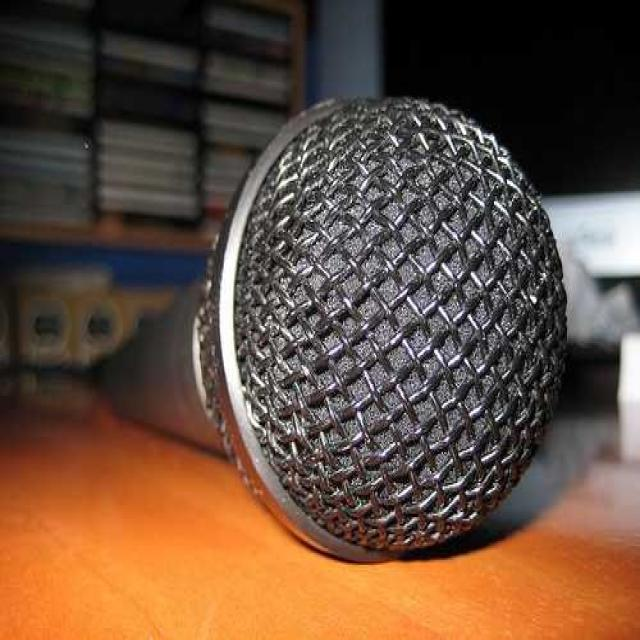microphone: (97, 102, 588, 548)
